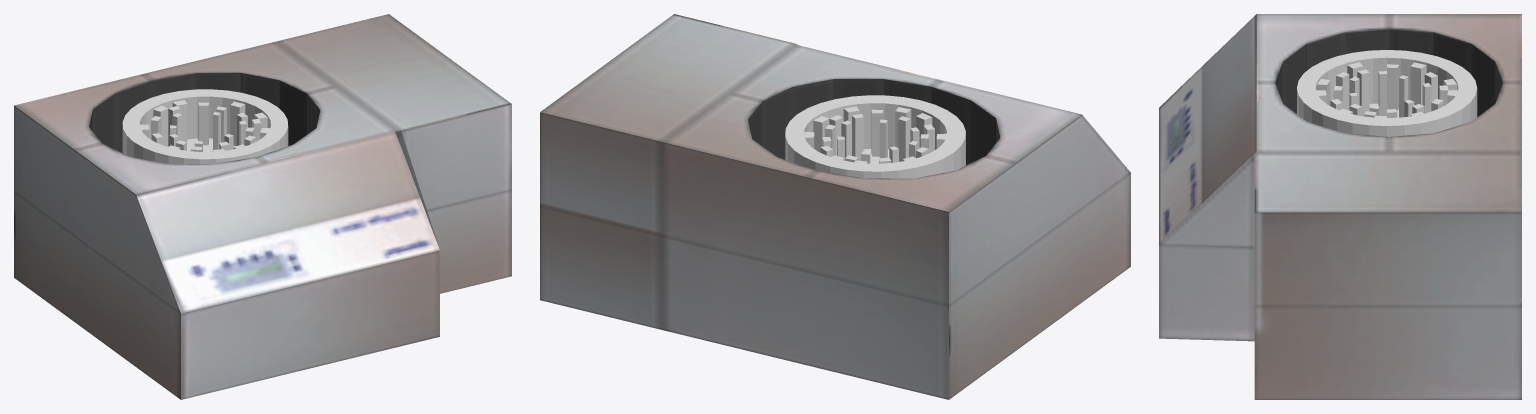
Rendered from Centrifuge.fbx.
3 renders of one model, left to right at view 1: azimuth 30°, elevation 25°; view 2: azimuth 150°, elevation 25°; view 3: azimuth 270°, elevation 25°, orthographic. The views are drawn at different scales.
Parts seen in each view (by area): view 1: Cube, Cylinder; view 2: Cube, Cylinder; view 3: Cube, Cylinder.
Boxes of the visible parts, x1,y1,x2,y2 form: Cube: (14, 14, 511, 399); Cylinder: (122, 89, 288, 164); Cube: (540, 14, 1130, 399); Cylinder: (785, 95, 965, 178); Cube: (1159, 14, 1521, 399); Cylinder: (1297, 50, 1477, 136).
Bounding box in the file's own units: 455 × 200 × 351.
